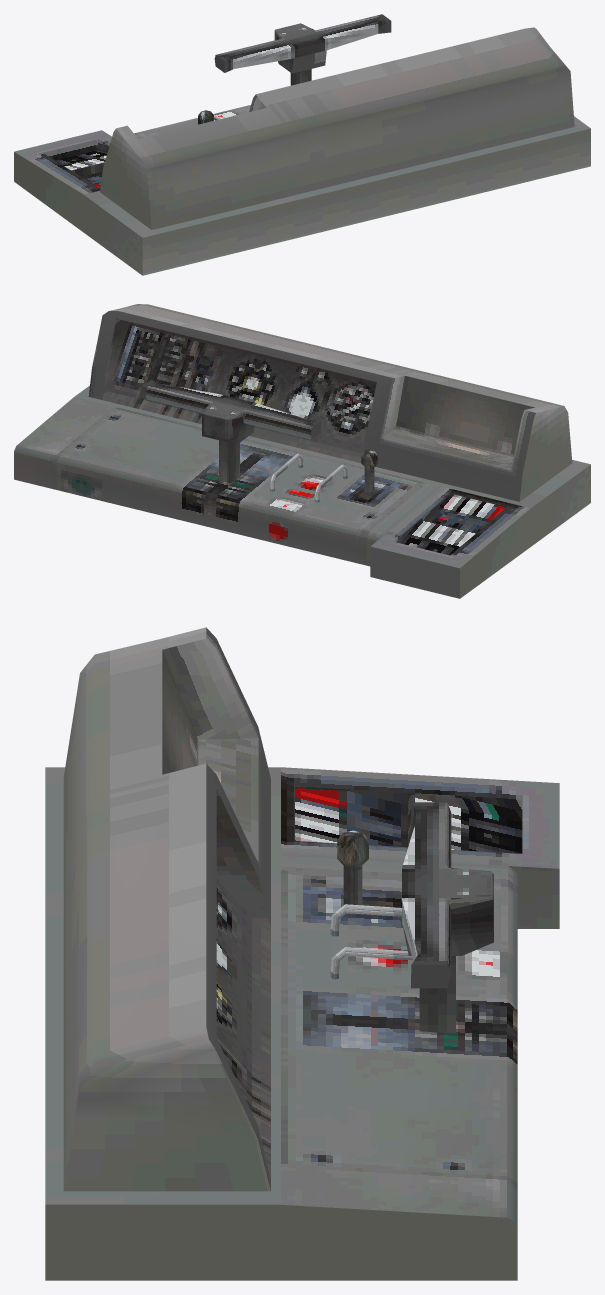
The model's file is ps2_save-icons_thekeihinkyuukoutrainsimulatorreal.glb.
The picture shows the model from 3 angles, top to bottom: view 1: azimuth 30°, elevation 25°; view 2: azimuth 150°, elevation 25°; view 3: azimuth 270°, elevation 25°; orthographic projection. The views are drawn at different scales.
Parts seen in each view (by area): view 1: icon.ico; view 2: icon.ico; view 3: icon.ico.
Boxes of the visible parts, x1,y1,x2,y2 form: icon.ico: [14, 14, 590, 275]; icon.ico: [14, 304, 590, 598]; icon.ico: [45, 627, 559, 1280].
Size of the model in its own units: 4.3 by 1.05 by 2.14.
Materials: 1 (1 with a texture image).
